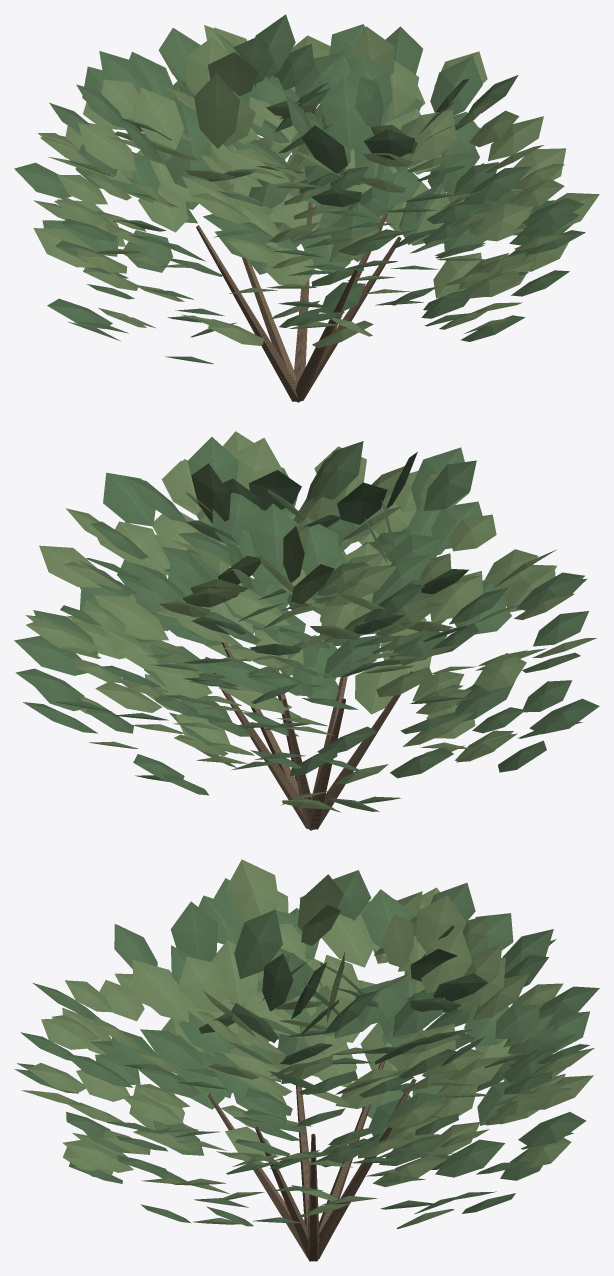
File: Shrub1.fbx
3 views of the same model, one above another, from view 1: azimuth 30°, elevation 25°; view 2: azimuth 150°, elevation 25°; view 3: azimuth 270°, elevation 25° (orthographic). The views are drawn at different scales.
Visible parts, largest first — view 1: Shrub1_LOD0; view 2: Shrub1_LOD0; view 3: Shrub1_LOD0.
Part boxes in pixels (x1,y1,x2,y2): Shrub1_LOD0: (14,14,599,402); Shrub1_LOD0: (14,431,599,830); Shrub1_LOD0: (14,859,599,1261).
Size of what is drawn, in the model's own units: 144 by 92.27 by 140.
1 material, 1 textured.
